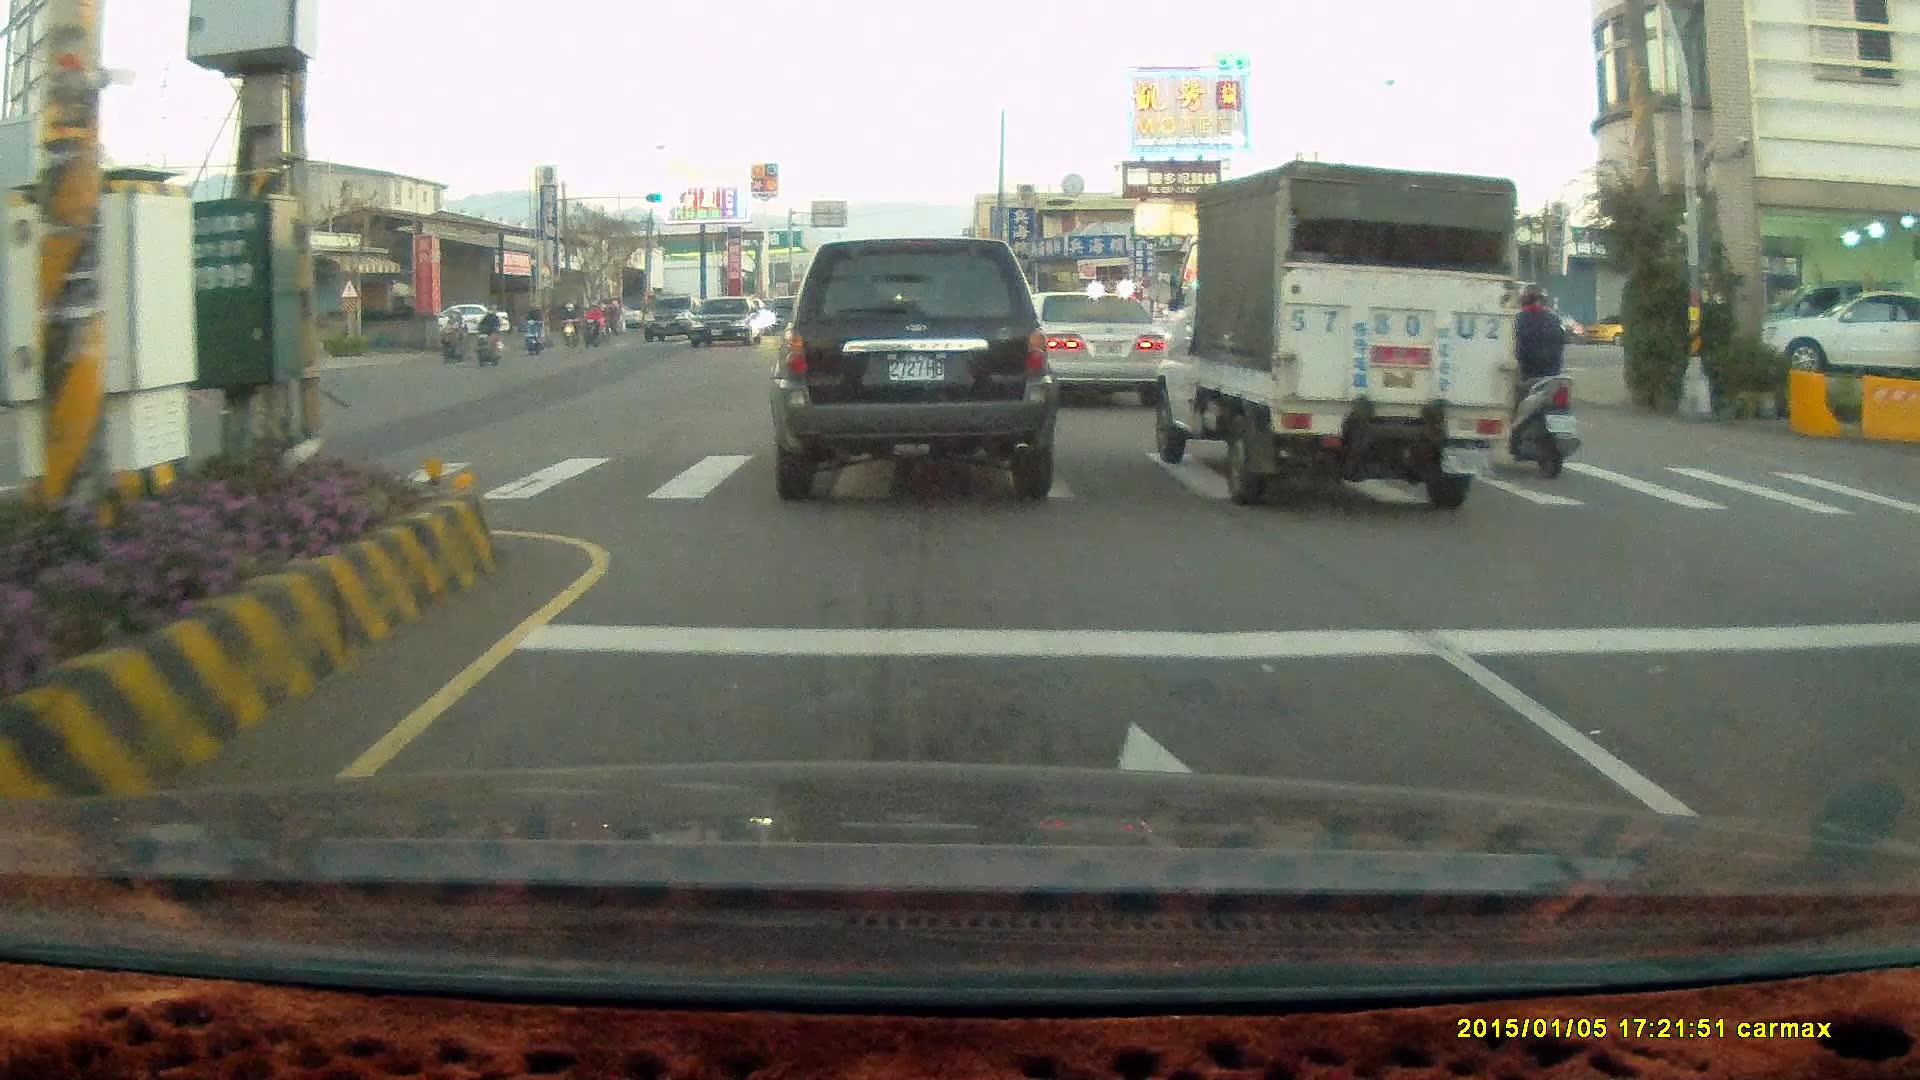rider: (1460, 281, 1583, 484), (436, 303, 472, 362), (522, 297, 548, 354), (475, 312, 504, 360), (555, 297, 580, 344), (583, 296, 605, 345)
vehicle: (1152, 158, 1518, 510), (768, 234, 1059, 504), (1004, 288, 1165, 404), (1030, 290, 1170, 412), (1759, 285, 1920, 378), (1768, 286, 1919, 380), (53, 314, 155, 394), (689, 295, 765, 350), (437, 302, 512, 340)
